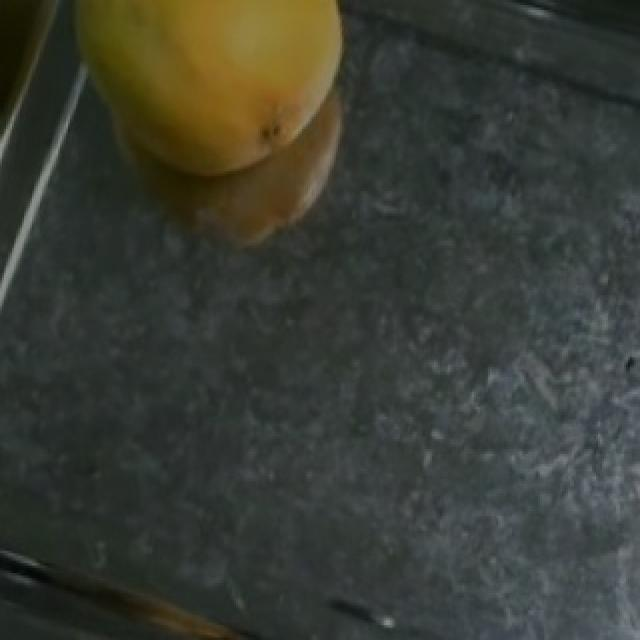fruit: (40, 0, 400, 213)
